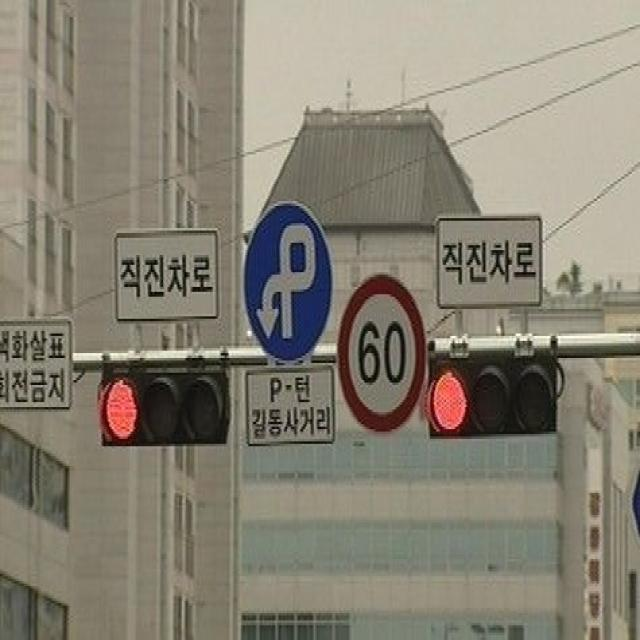red_light: (94, 354, 236, 455)
